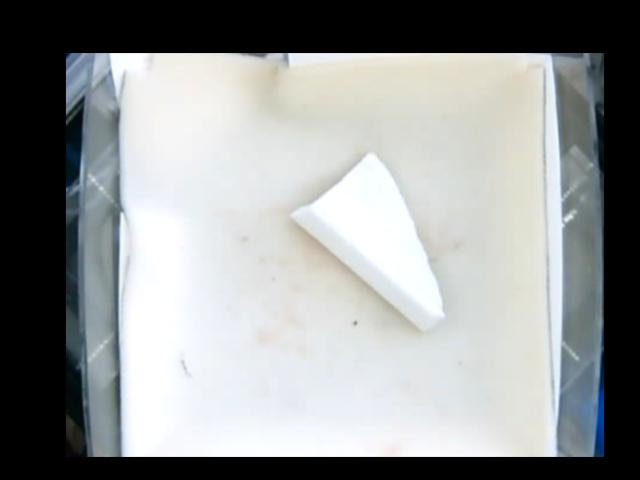China: (290, 149, 443, 335)
